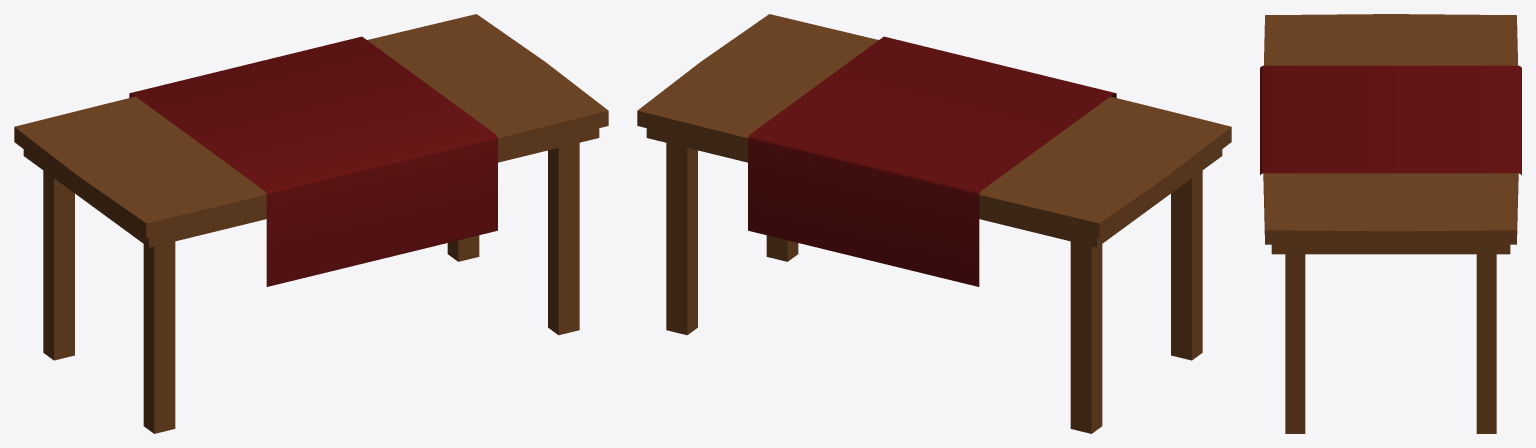
The model's file is Table.fbx.
The picture shows the model from 3 angles, left to right: view 1: azimuth 30°, elevation 25°; view 2: azimuth 150°, elevation 25°; view 3: azimuth 270°, elevation 25°; orthographic projection. The views are drawn at different scales.
Parts seen in each view (by area): view 1: Prop_Table_16; view 2: Prop_Table_16; view 3: Prop_Table_16.
Part boxes in pixels (x1,y1,x2,y2): Prop_Table_16: (14, 14, 608, 433); Prop_Table_16: (637, 14, 1231, 433); Prop_Table_16: (1260, 14, 1521, 433).
Size of the model in its own units: 200 by 92.9 by 102.
1 material, 1 textured.
